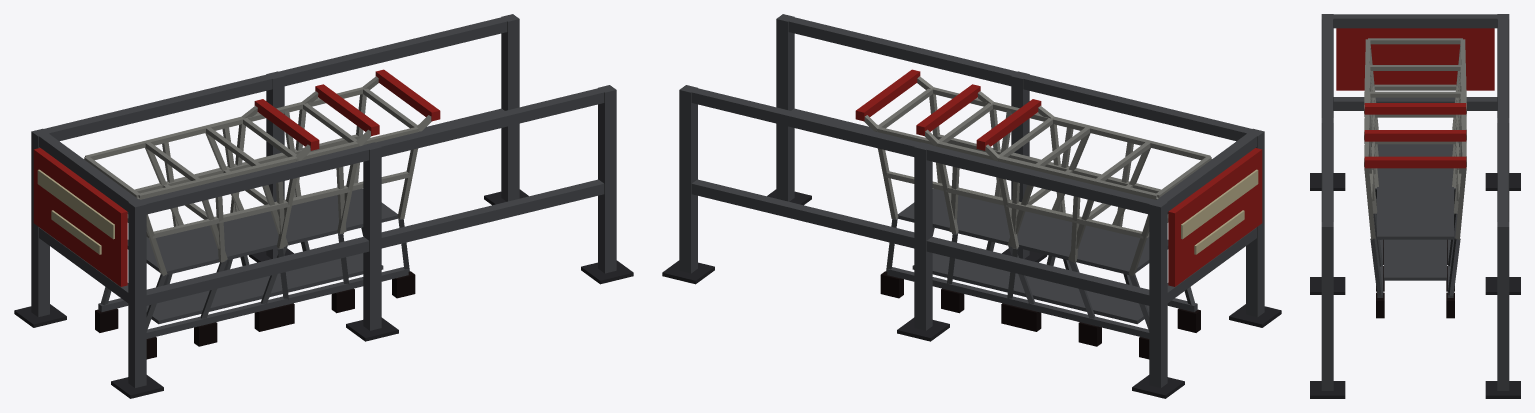
File: hollis_cart_corral.glb
3 views of the same model, side by side, from view 1: azimuth 30°, elevation 25°; view 2: azimuth 150°, elevation 25°; view 3: azimuth 270°, elevation 25° (orthographic). The views are drawn at different scales.
Parts seen in each view (by area): view 1: hollis_cart_corral; view 2: hollis_cart_corral; view 3: hollis_cart_corral.
Boxes of the visible parts, box(x1,y1,x2,y2) form: hollis_cart_corral: box(14, 14, 633, 398); hollis_cart_corral: box(662, 14, 1281, 398); hollis_cart_corral: box(1310, 14, 1520, 398).
Size of the model in its own units: 3 by 1.05 by 1.2.
